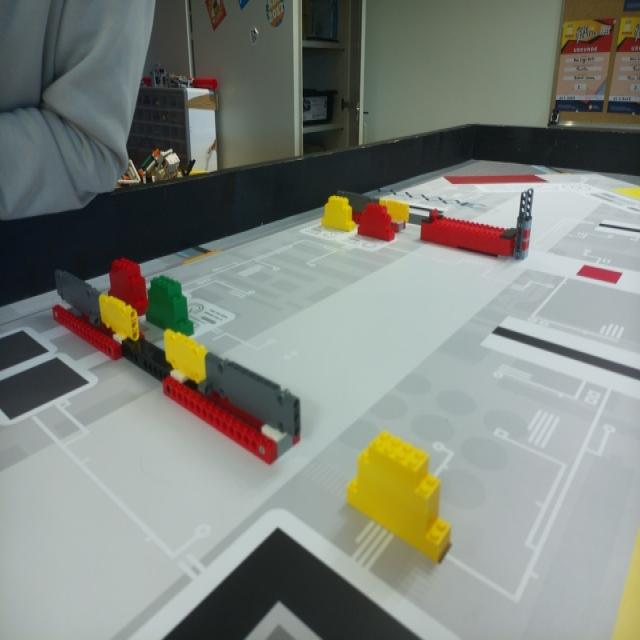gruen: (146, 272, 194, 336)
rot: (107, 258, 149, 312), (356, 202, 392, 241)
yellow: (348, 428, 451, 562), (322, 194, 353, 231)
